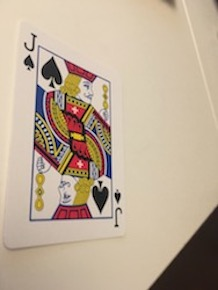JackOfSpades: (2, 17, 132, 248)
